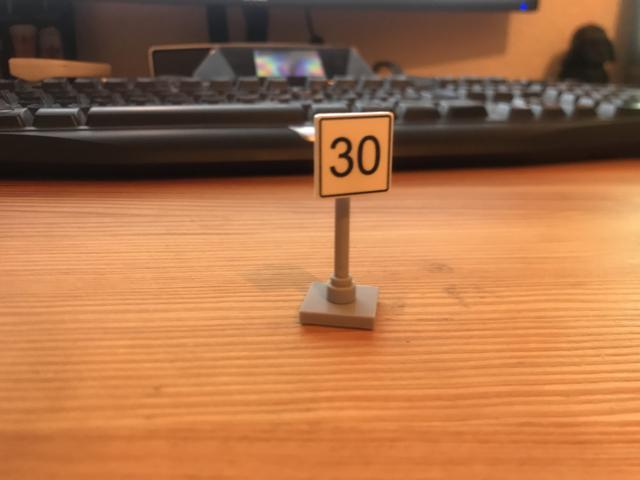tempolimit 30: (315, 112, 393, 197)
